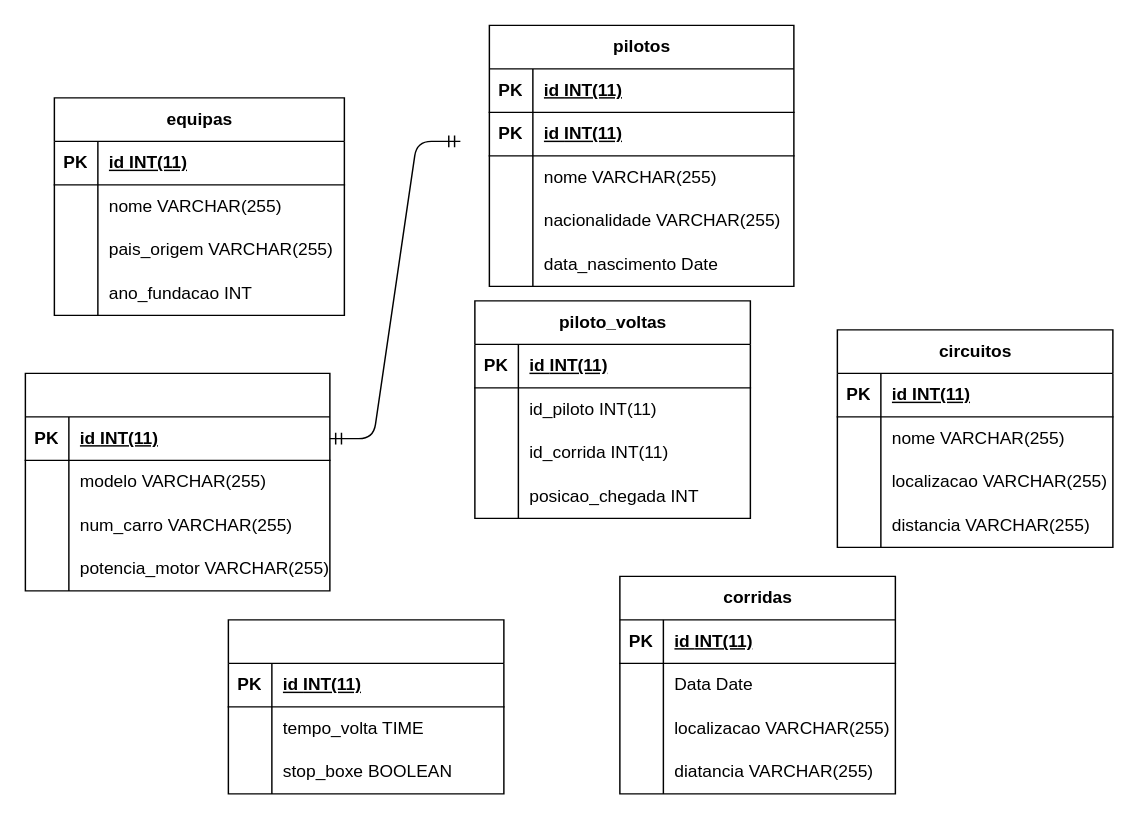
This 1138x819 diagram has some shape labels left out. Here are the shapes that lost their labels. From the top down, the box of each, then its label:
(24, 372, 330, 591): carros
(227, 618, 504, 794): voltas
